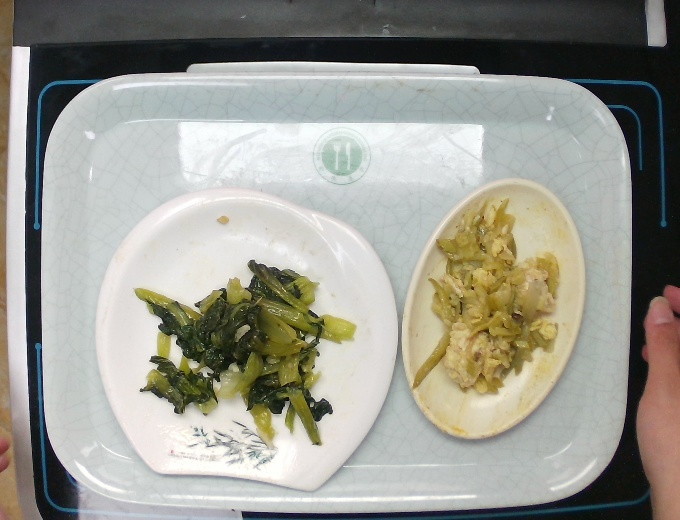JYsf-Mian_Pan: (92, 185, 400, 494)
JYsf-Tuo_Yuan_Wan: (399, 175, 588, 442)
